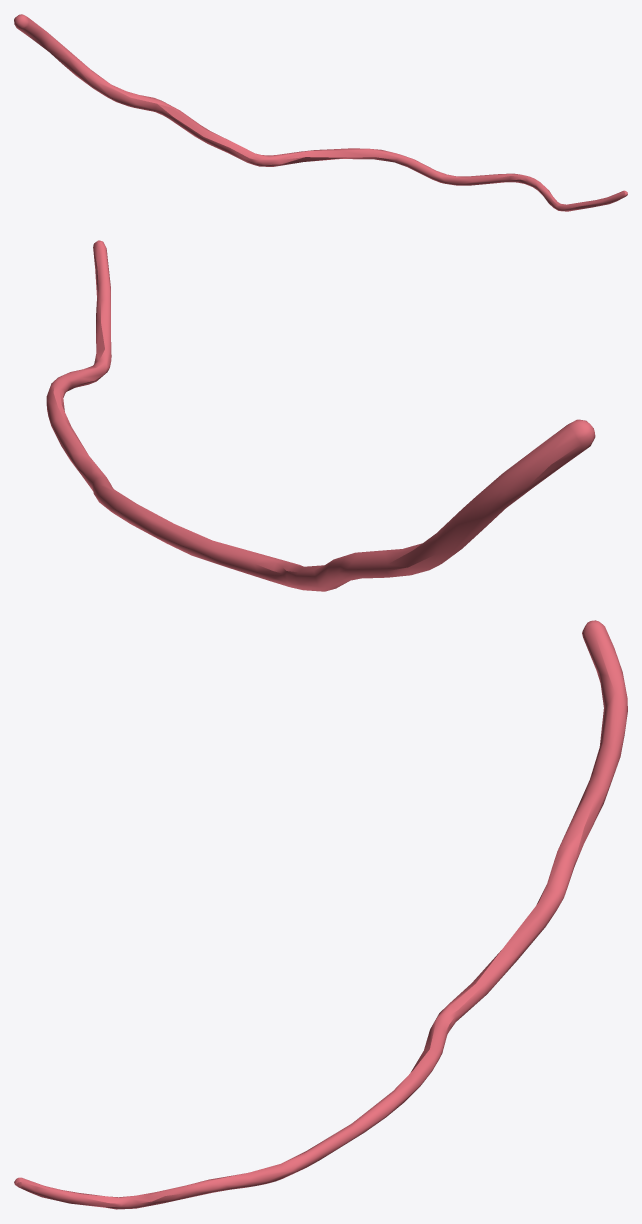
Rendered from fma4712_fj2701.glb.
The picture shows the model from 3 angles, top to bottom: view 1: azimuth 30°, elevation 25°; view 2: azimuth 150°, elevation 25°; view 3: azimuth 270°, elevation 25°; orthographic projection. The views are drawn at different scales.
Visible parts, largest first — view 1: FMA4712_FJ2701; view 2: FMA4712_FJ2701; view 3: FMA4712_FJ2701.
Boxes of the visible parts, x1=… form: FMA4712_FJ2701: x1=14, y1=14, x2=627, y2=211; FMA4712_FJ2701: x1=46, y1=240, x2=595, y2=591; FMA4712_FJ2701: x1=14, y1=620, x2=627, y2=1209.
Bounding box in the file's own units: 0.0551 × 0.0223 × 0.043.
